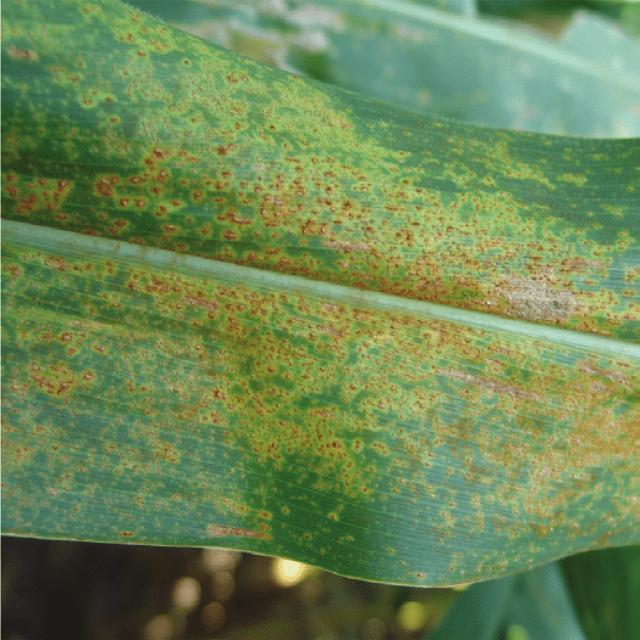Corn_Rust: (2, 0, 640, 593)
